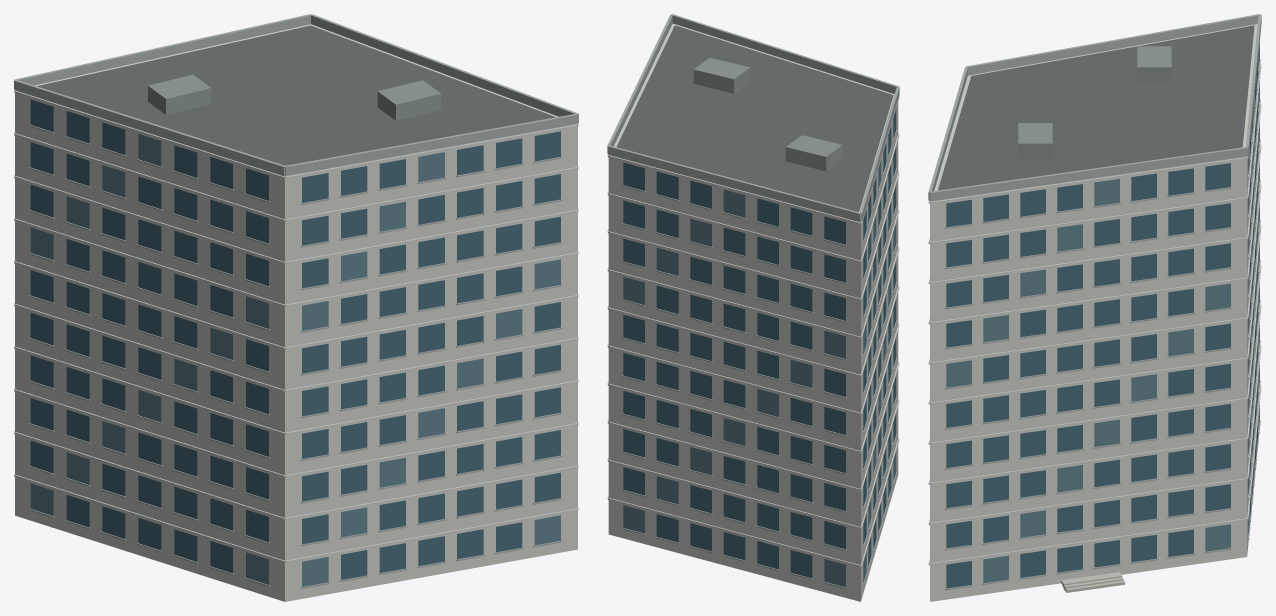
Rendered from 软件园与科创楼-018.glb.
The picture shows the model from 3 angles, left to right: view 1: azimuth 30°, elevation 25°; view 2: azimuth 150°, elevation 25°; view 3: azimuth 270°, elevation 25°; orthographic projection. The views are drawn at different scales.
Parts seen in each view (by area): view 1: 软件园与科创楼-018; view 2: 软件园与科创楼-018; view 3: 软件园与科创楼-018.
Boxes of the visible parts, x1,y1,x2,y2 form: 软件园与科创楼-018: [14, 14, 578, 601]; 软件园与科创楼-018: [607, 14, 899, 601]; 软件园与科创楼-018: [928, 14, 1261, 601].
Size of the model in its own units: 34.43 by 37.42 by 27.08.
